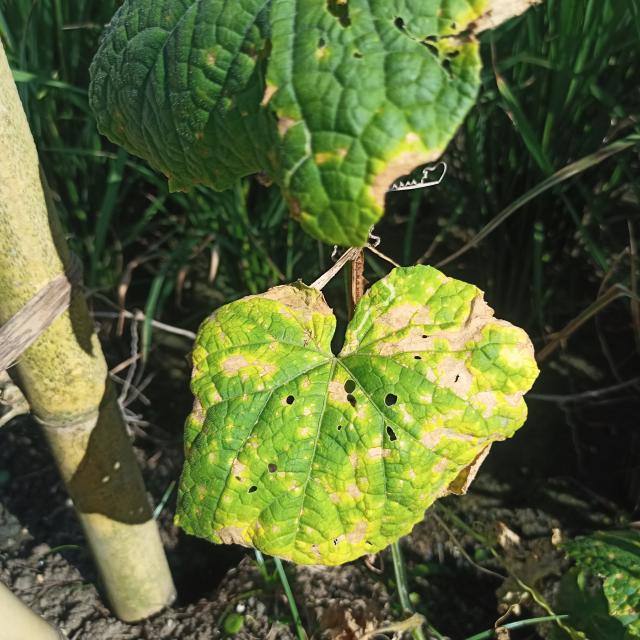disease_cucumber: (191, 274, 517, 568)
